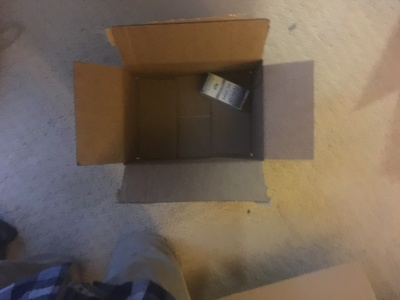innerbox: (122, 66, 265, 162)
outerbox: (76, 20, 315, 205)
product: (200, 74, 251, 109)
